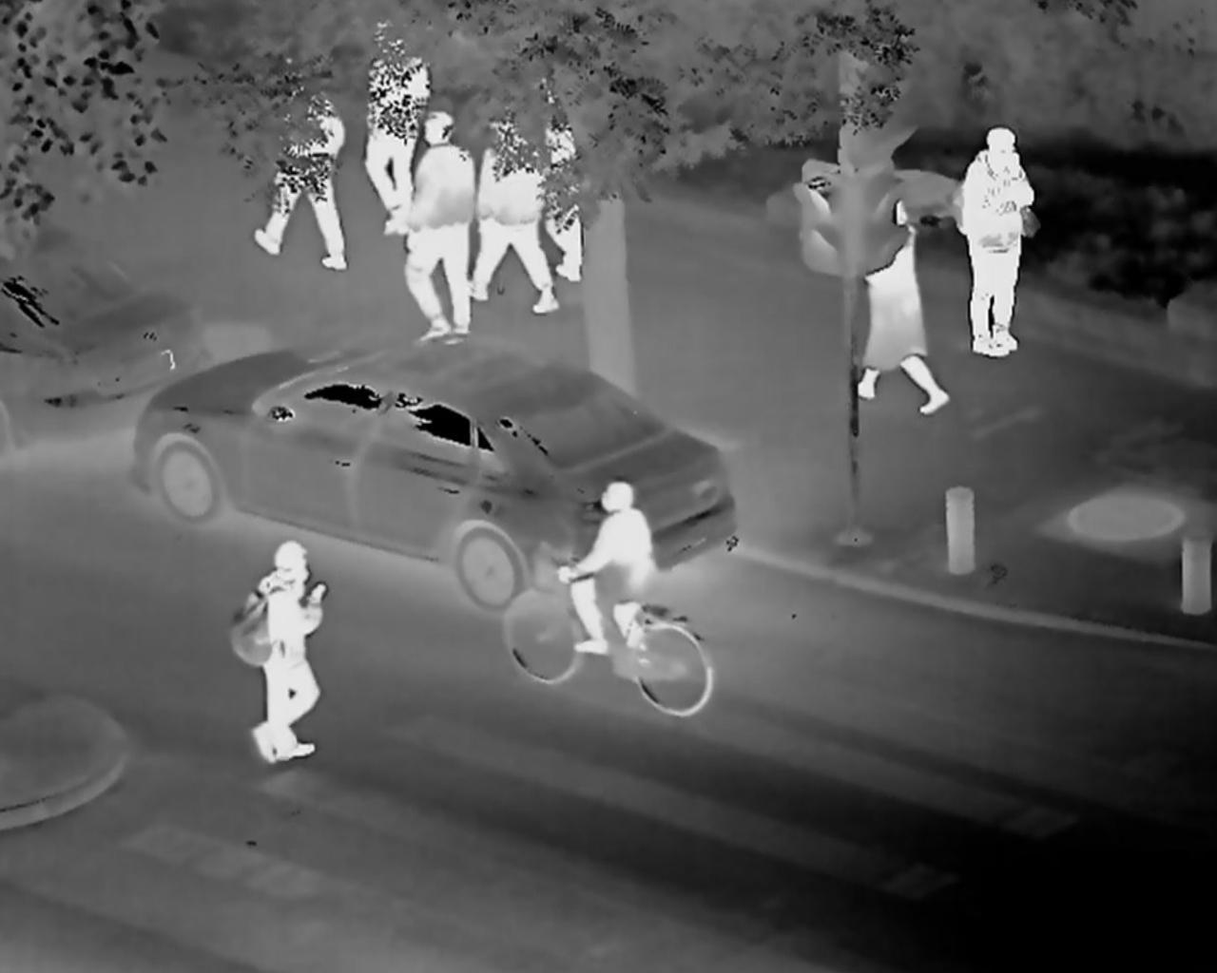person: (218, 527, 340, 785), (838, 175, 940, 439), (941, 107, 1040, 359), (339, 8, 436, 243), (557, 476, 666, 684), (466, 93, 558, 331), (246, 79, 357, 276), (402, 109, 481, 352), (538, 61, 598, 296)
